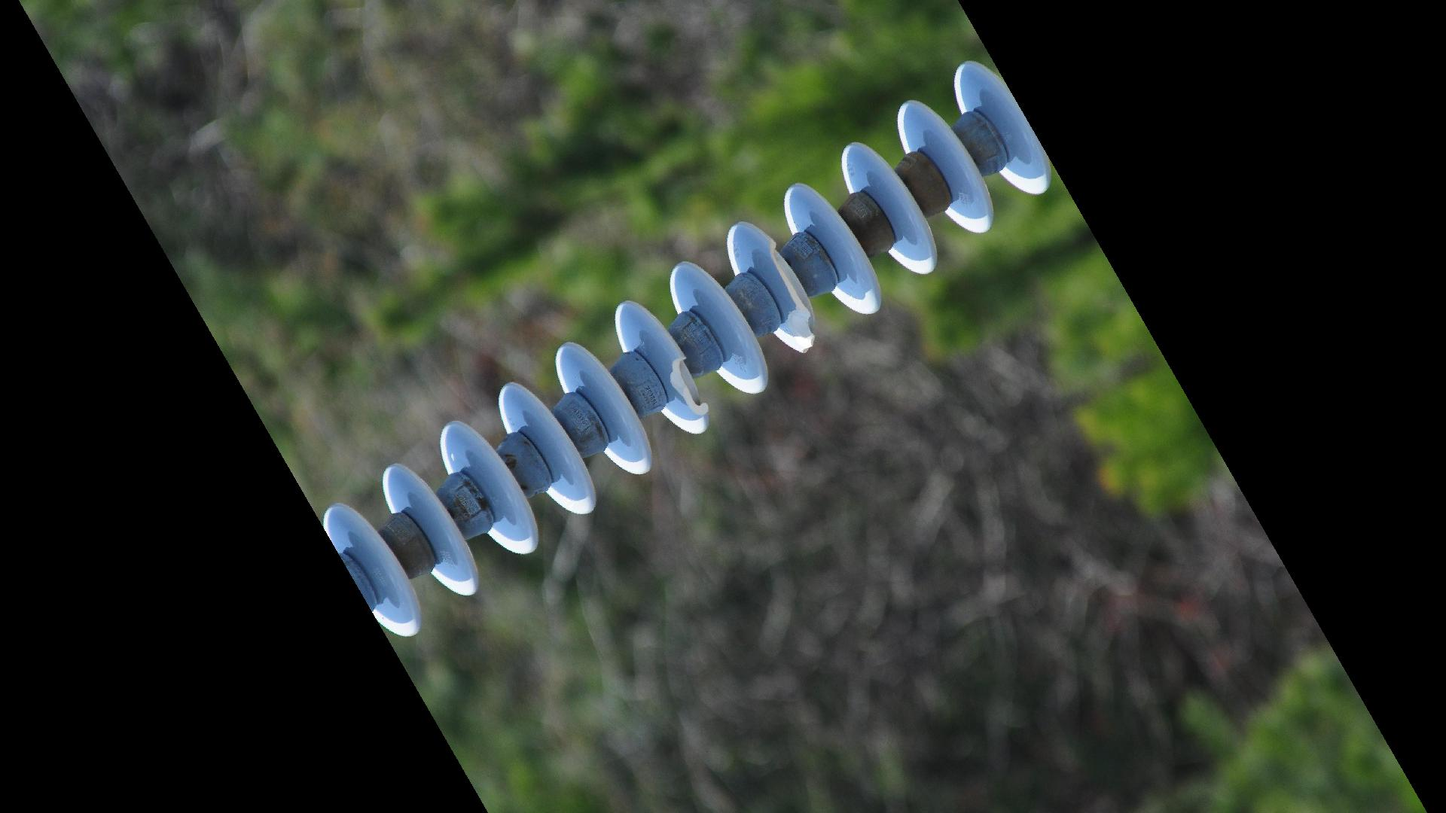insulator: (320, 55, 1064, 644)
insulator_breakage: (764, 234, 822, 363), (662, 346, 717, 427)
